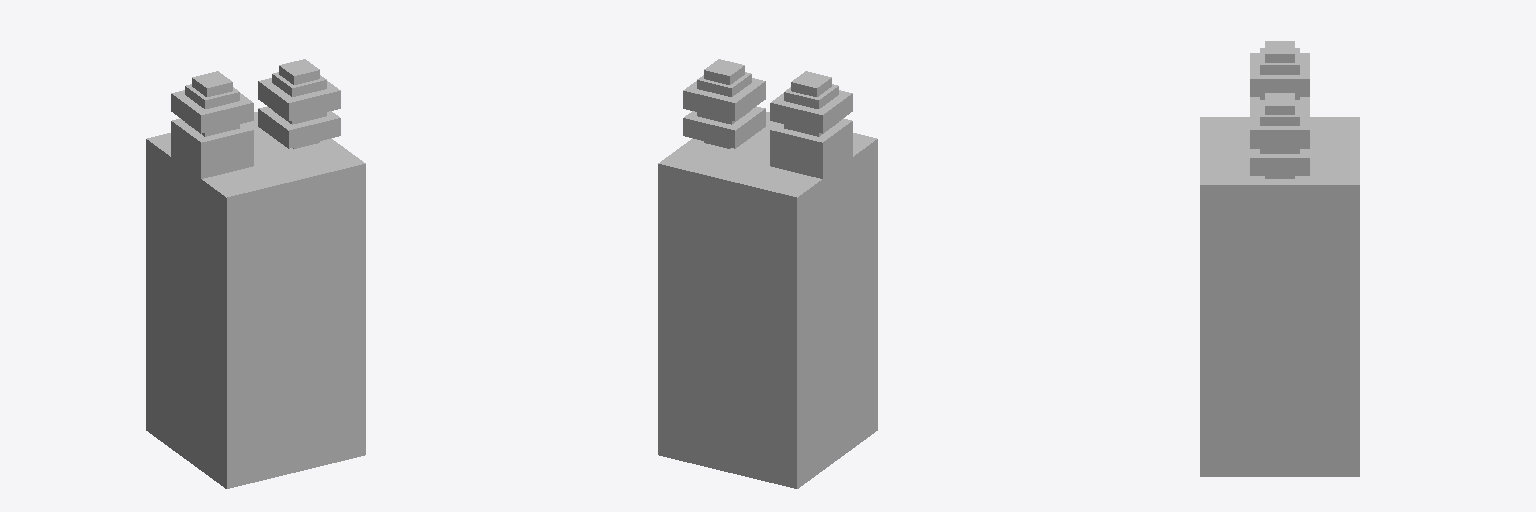
The model's file is transformer_mv_right.obj.
The picture shows the model from 3 angles: view 1: azimuth 30°, elevation 25°; view 2: azimuth 150°, elevation 25°; view 3: azimuth 270°, elevation 25°; orthographic projection.
Visible parts, largest first — view 1: right; view 2: right; view 3: right.
Boxes of the visible parts, <box> form: right: <box>146,59,365,488</box>; right: <box>658,59,877,488</box>; right: <box>1200,41,1359,476</box>.
Size of the model in its own units: 1 by 2.56 by 1.